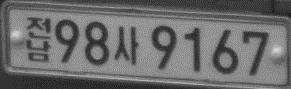1: (181, 27, 208, 73)
6: (210, 29, 238, 74)
7: (241, 30, 270, 75)
8: (83, 20, 110, 67)
9: (150, 24, 177, 70), (54, 18, 80, 63)
사: (113, 25, 139, 65)
전남_V: (25, 16, 51, 62)
